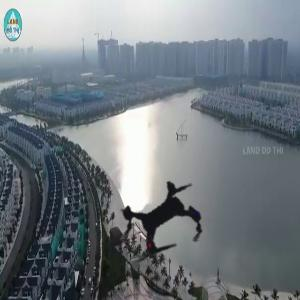drone: (89, 150, 239, 300)
